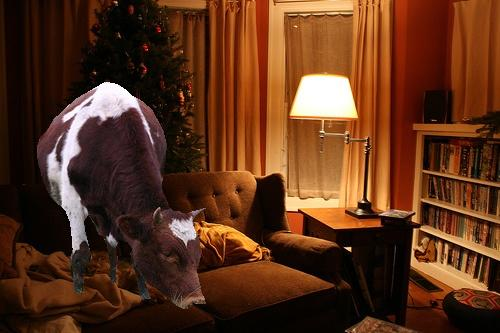tampered: (38, 83, 206, 309)
